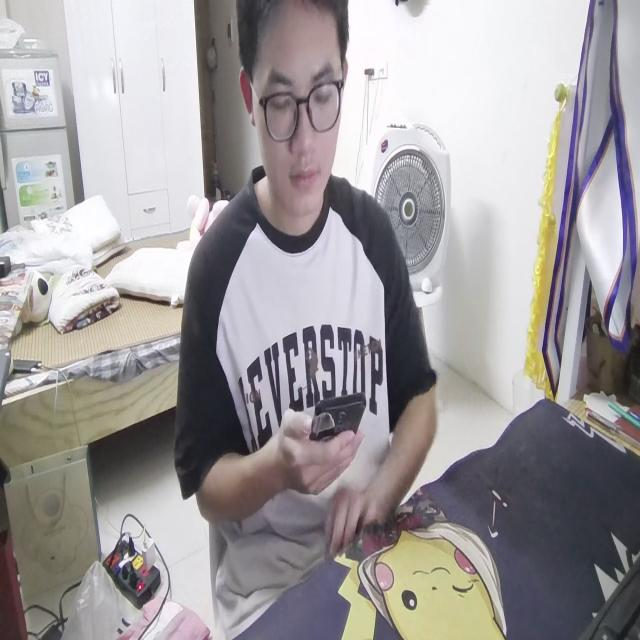phone: (306, 389, 364, 454)
student: (175, 0, 435, 622)
